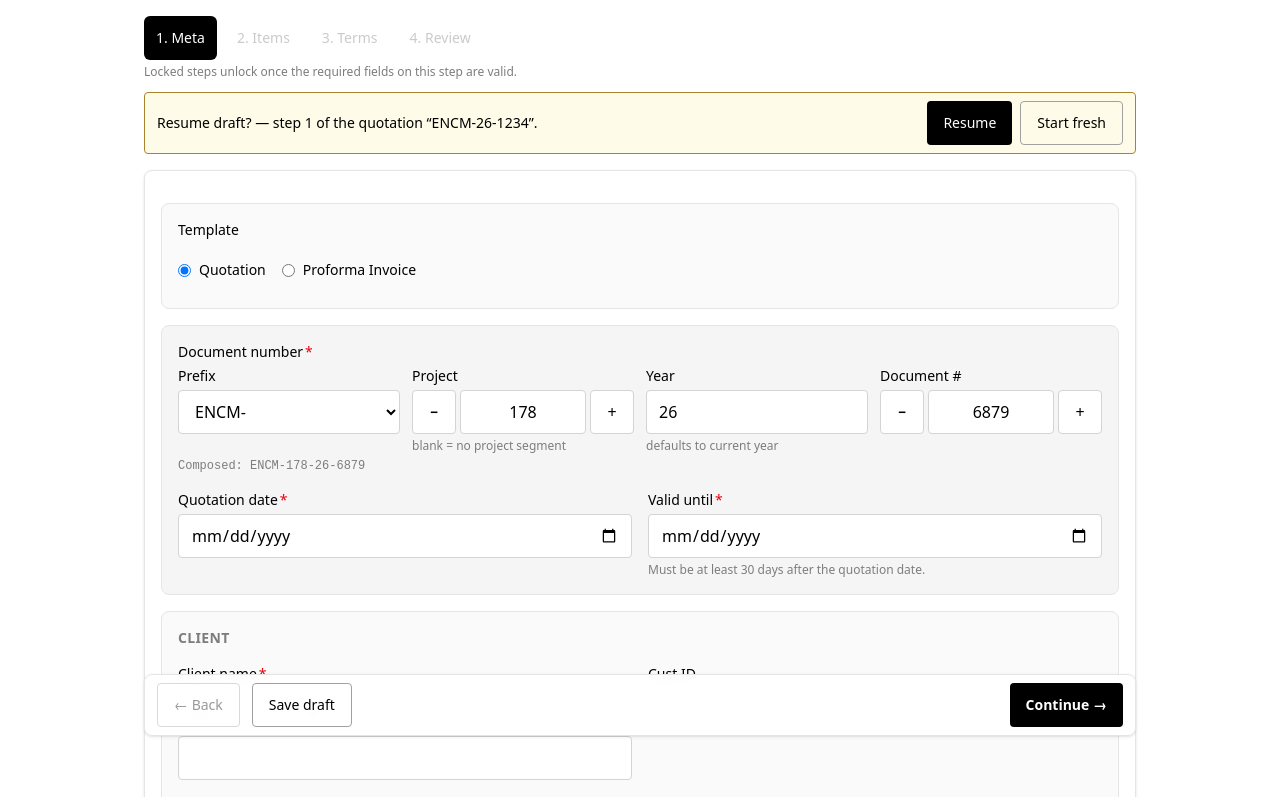
Scenario: Wizard resume banner (AC-12 / EC-11) › discards a found draft on Start fresh without a native confirm
Click the button "Start fresh". click: coordinates (1072, 123)
box: [1020,101,1123,145]
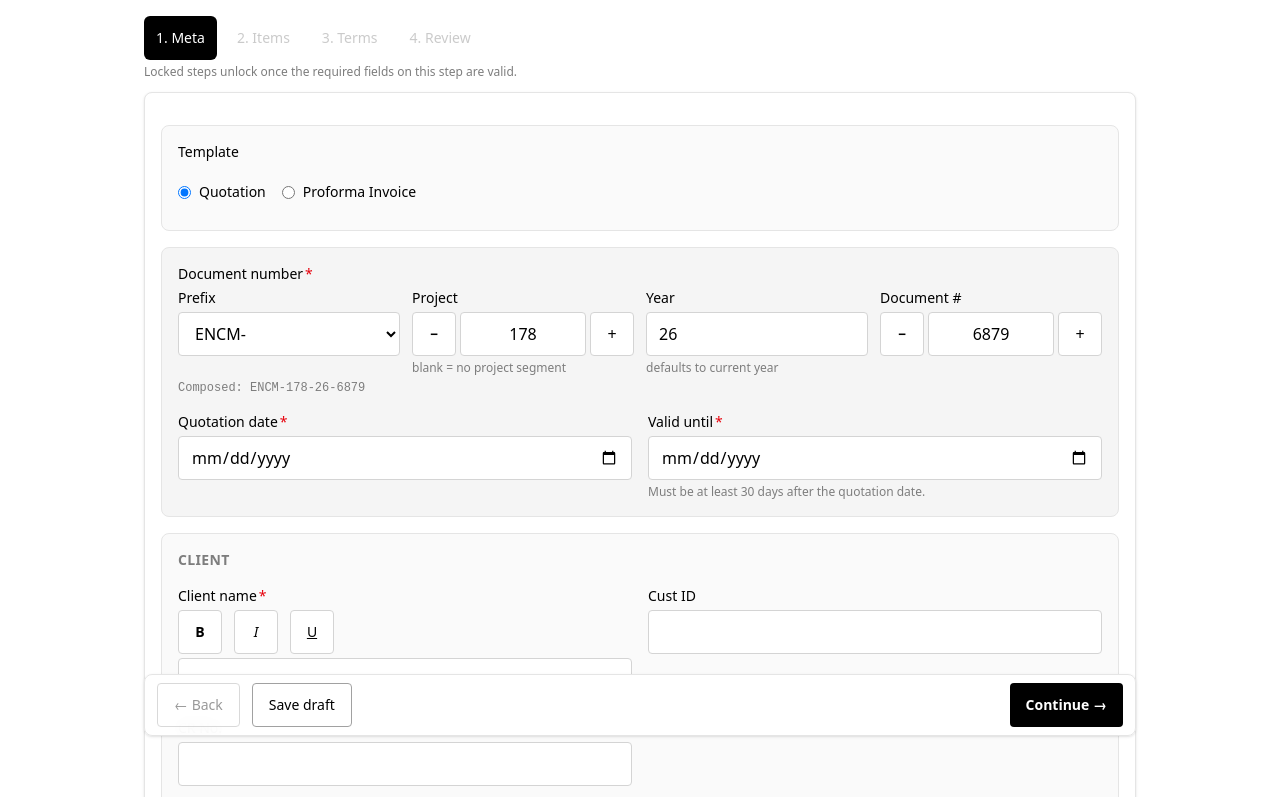
Expected: the text "Resume draft?" is gone
